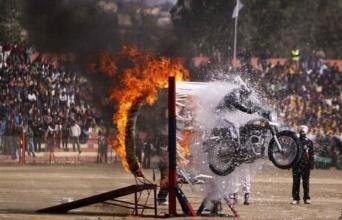fire: (95, 44, 190, 169), (177, 130, 191, 159)
